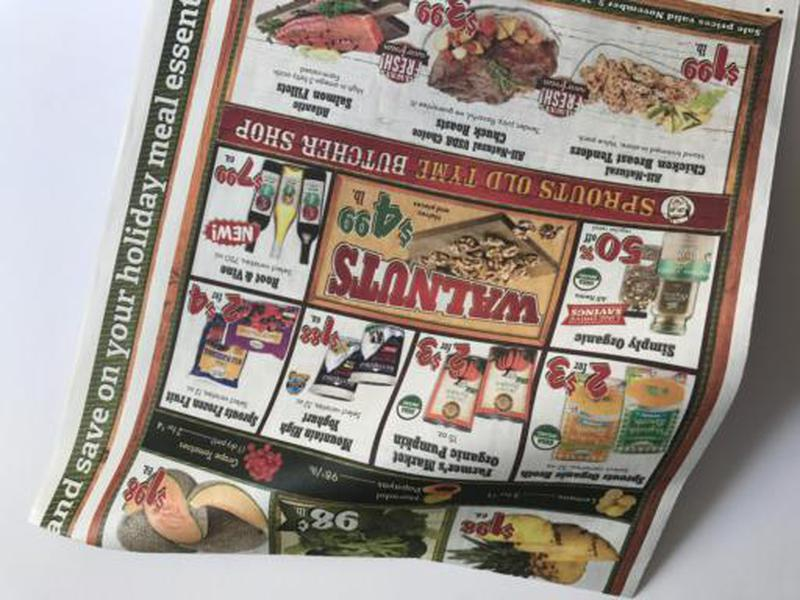paper: (24, 1, 800, 597)
